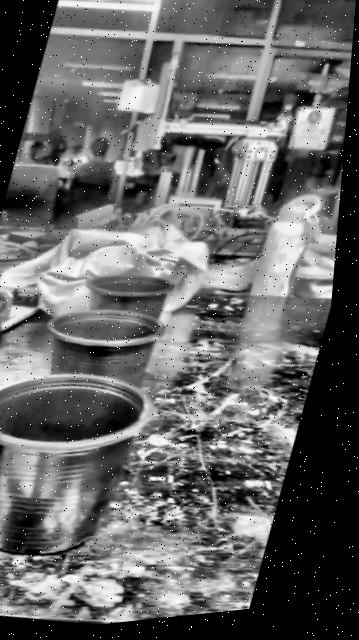pot: (0, 348, 155, 577), (46, 309, 163, 385), (87, 274, 172, 317)
